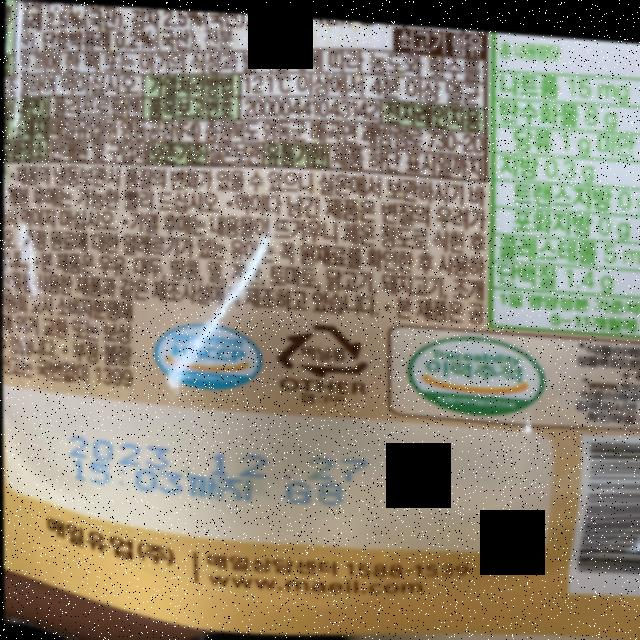Vinyl: (270, 314, 371, 378)
